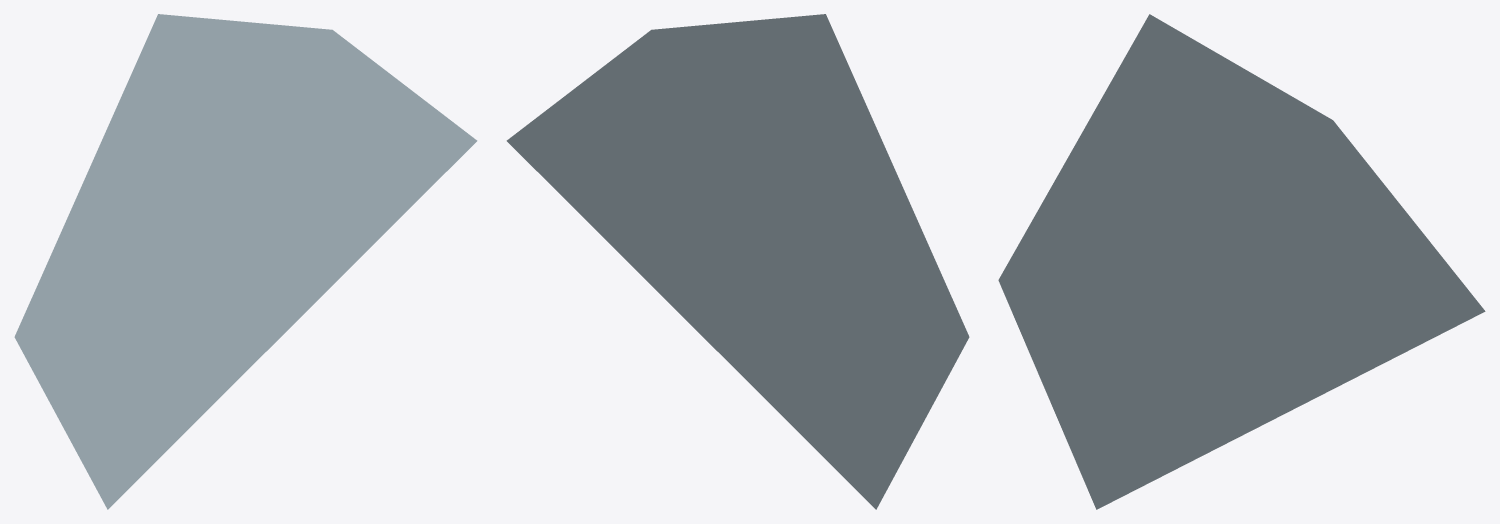
The picture shows the model from 3 angles, left to right: view 1: azimuth 30°, elevation 25°; view 2: azimuth 150°, elevation 25°; view 3: azimuth 330°, elevation 25°; orthographic projection. The views are drawn at different scales.
Visible parts, largest first — view 1: pCube39; view 2: pCube39; view 3: pCube39.
Part boxes in pixels (<box>): pCube39: <box>14,14,477,509</box>; pCube39: <box>506,14,969,509</box>; pCube39: <box>998,14,1485,509</box>.
Size of the model in its own units: 29.03 by 28.98 by 7.63e-06.
